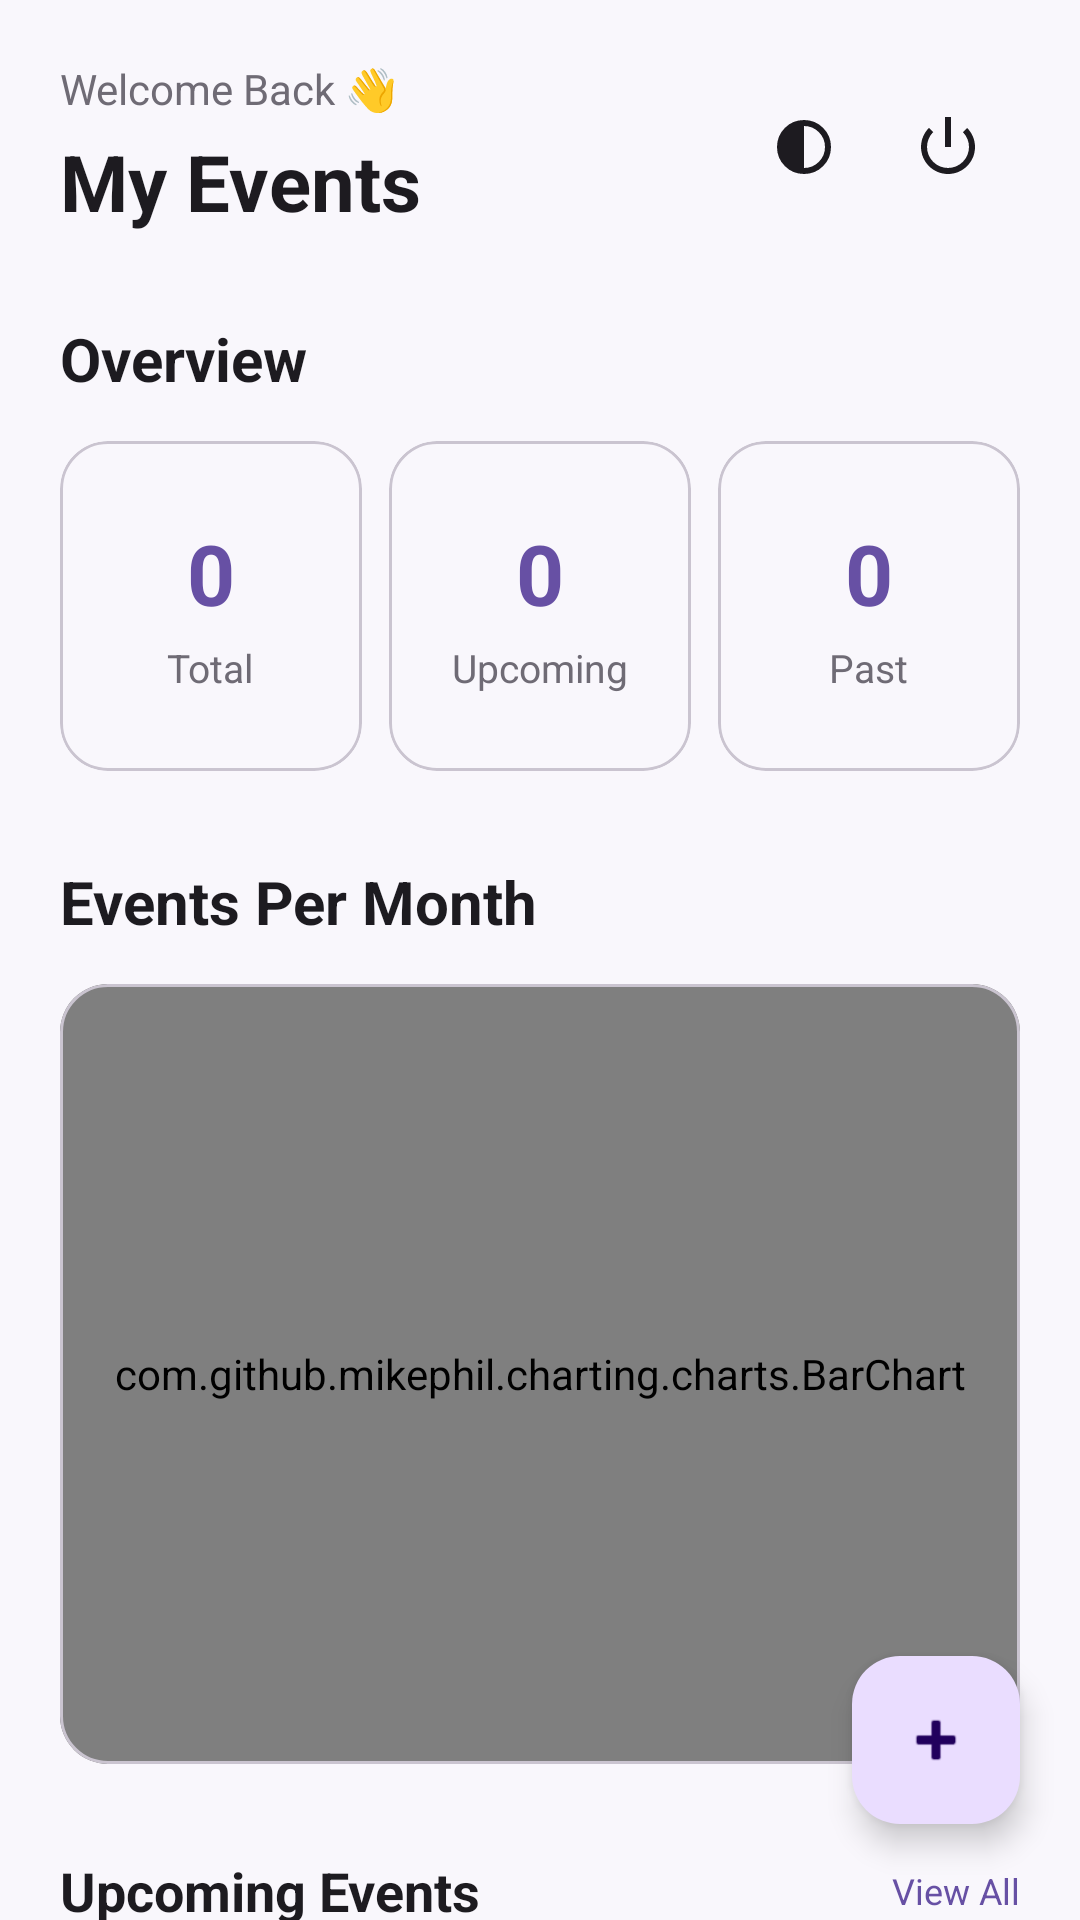

Icons on this 1080px x 1920px Android screen, each with the point to tap as point (x, y):
Add Event: point (936, 1740)
Theme: point (804, 147)
